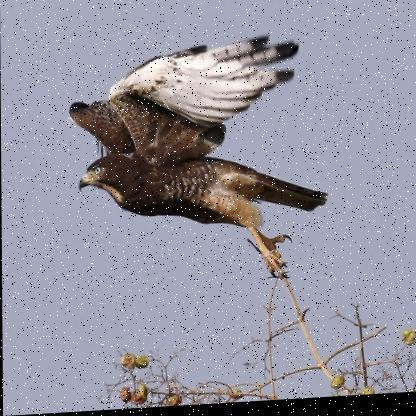Burung: (66, 35, 329, 287)
